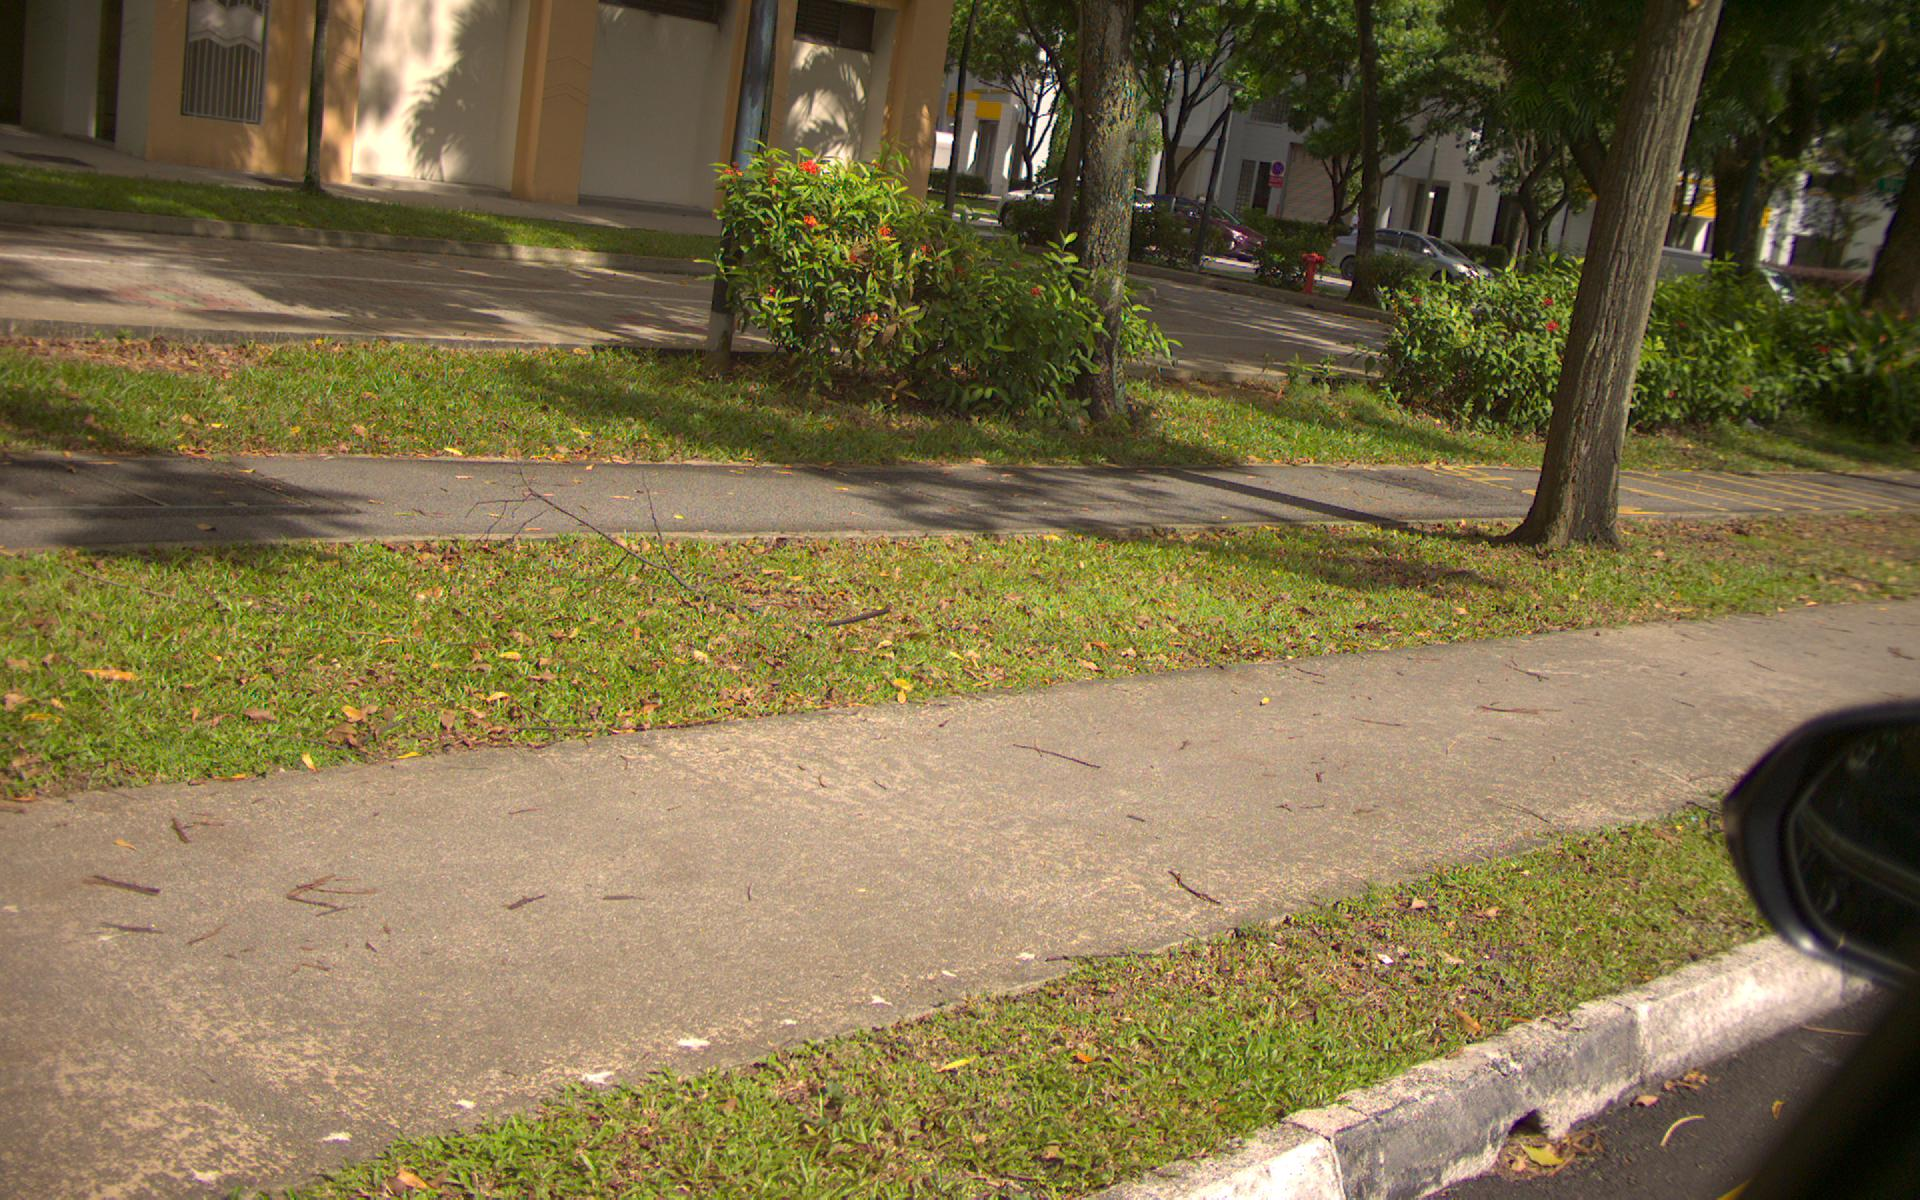pathway_low: (6, 795, 688, 1084), (4, 465, 1527, 516)
road_turf_low: (6, 336, 1023, 451), (1, 552, 600, 738)
